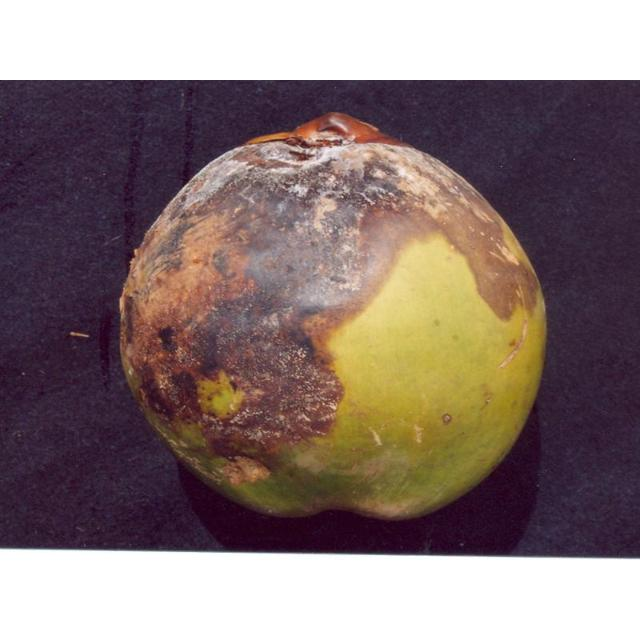damaged: (118, 114, 547, 524)
